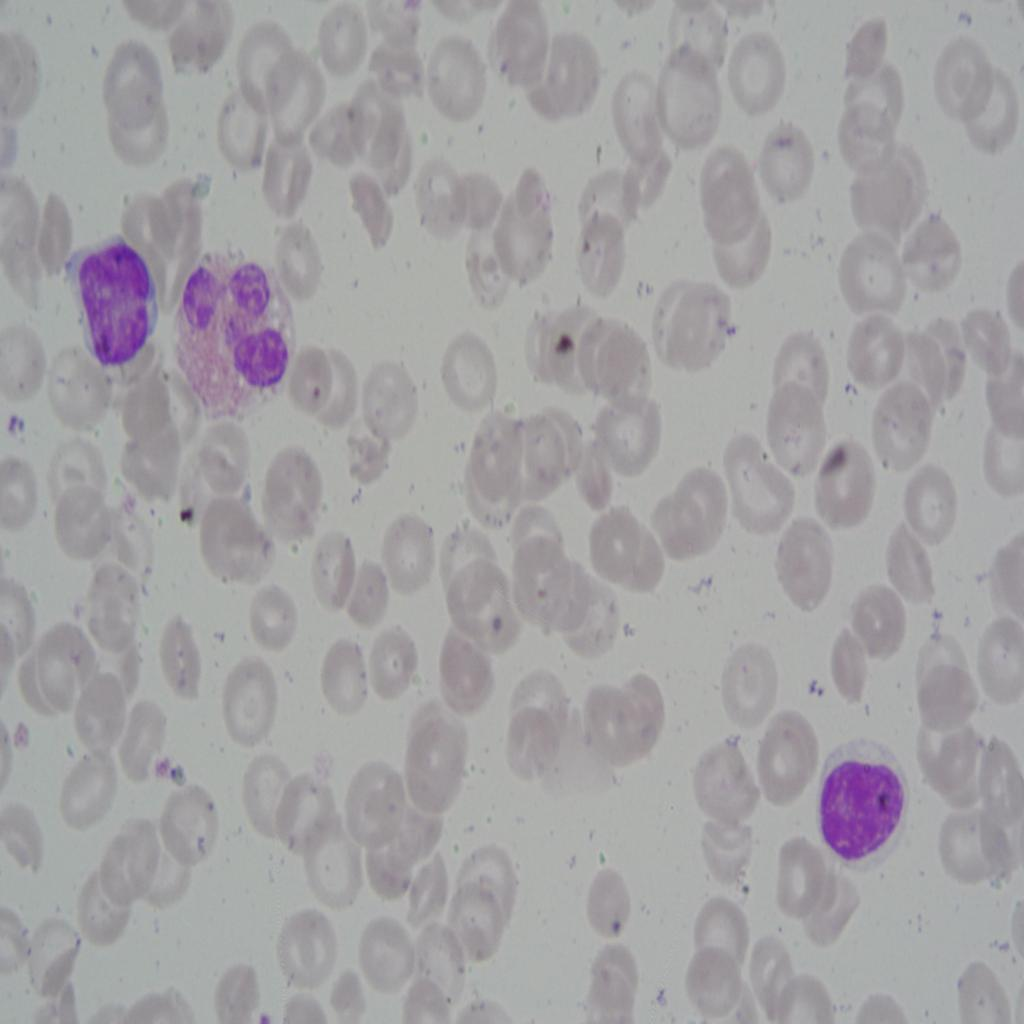Myeoblast: (815, 724, 918, 884), (67, 234, 166, 372)
Neutrofil: (176, 238, 293, 417)
